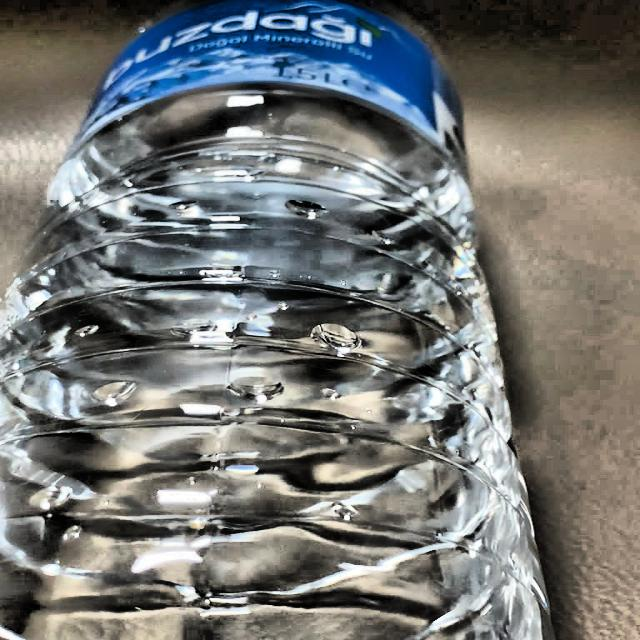plastic: (0, 0, 563, 640)
